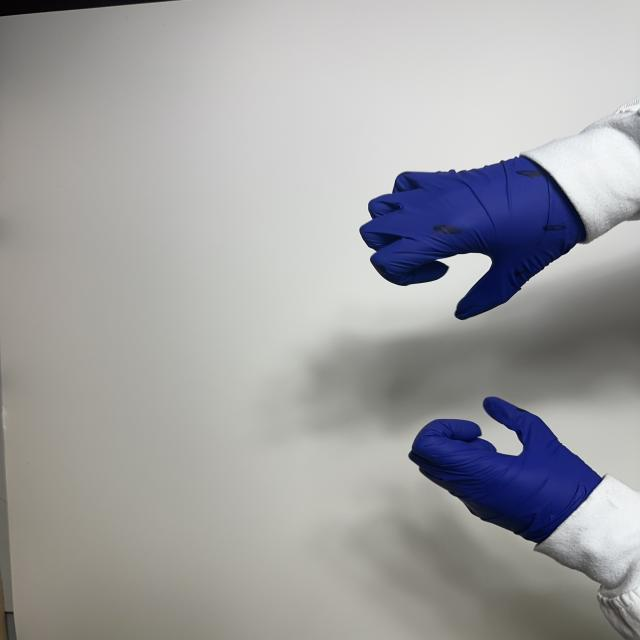gloves_contaminated: (361, 157, 585, 319), (409, 397, 601, 544)
